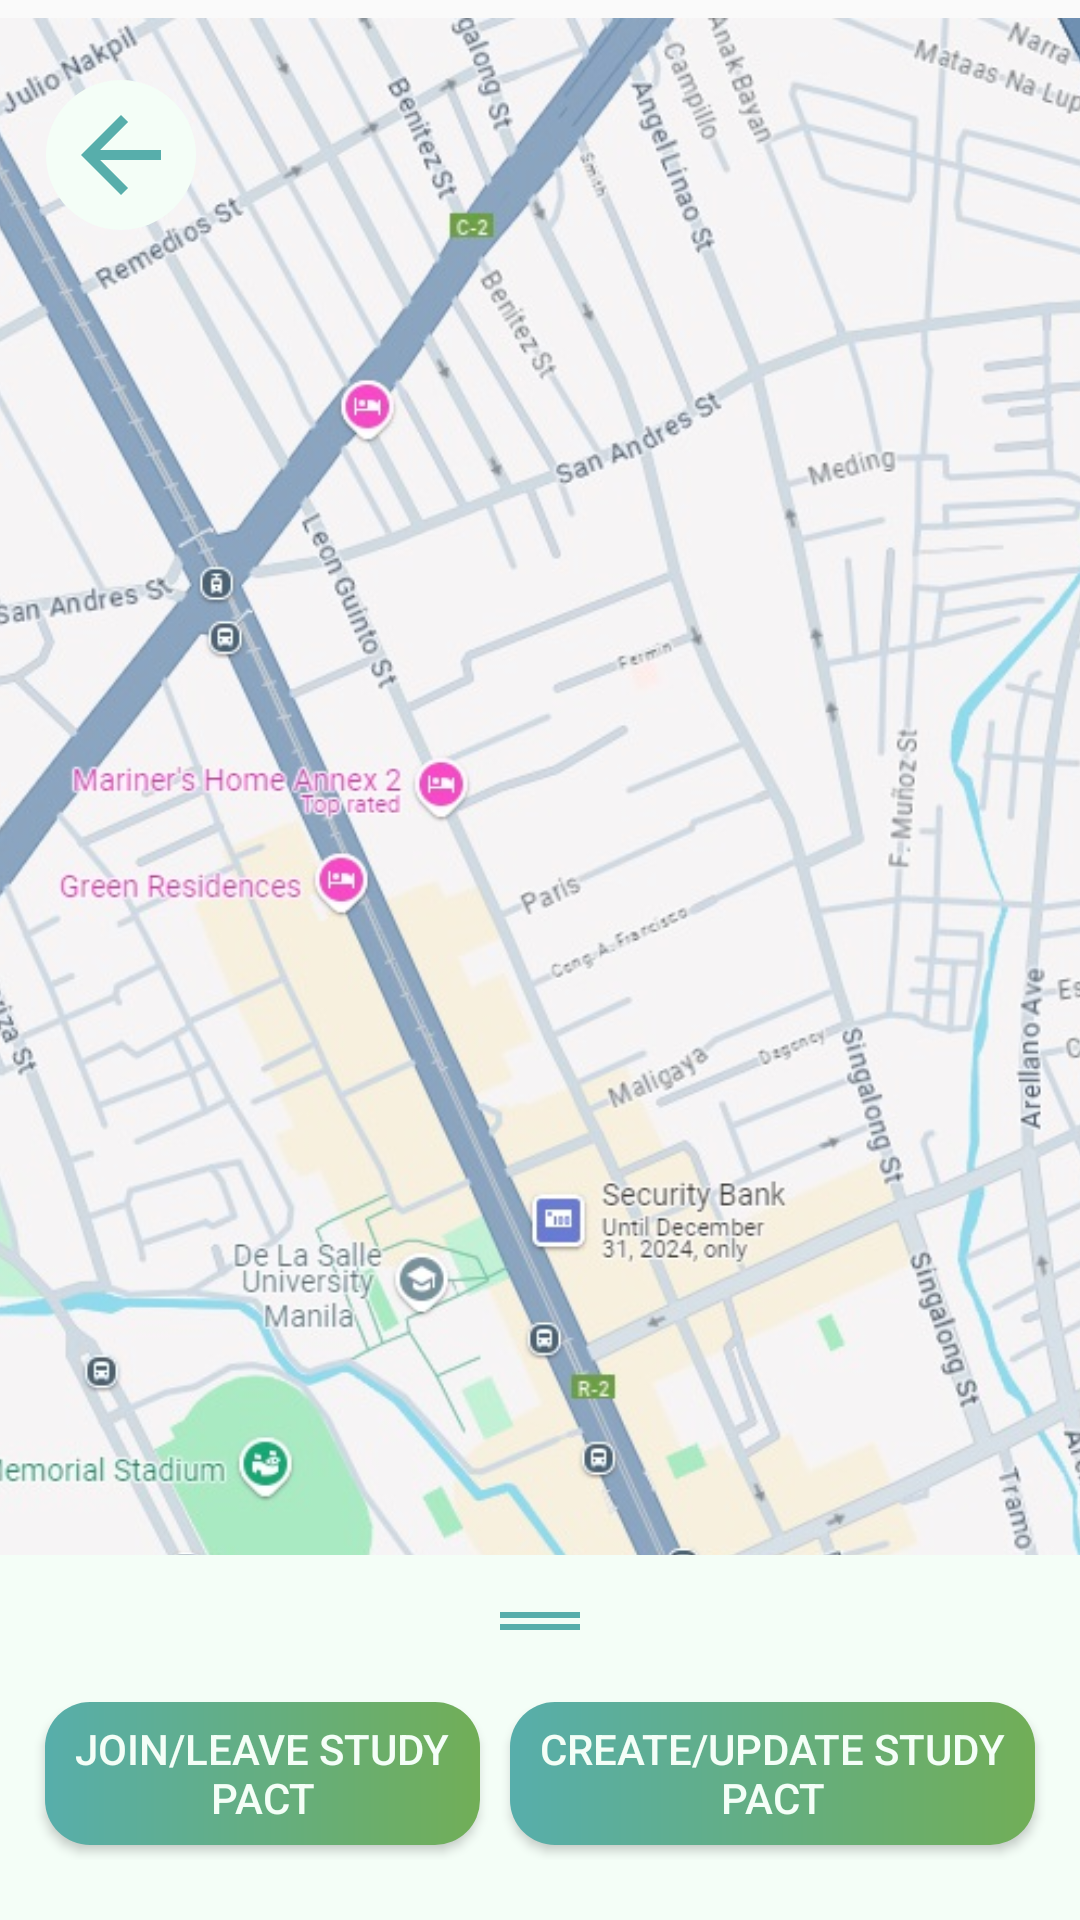

Icon bounding boxes for this 1080x1920 phone screenshot, format (x1, y1, x2, y2):
drag handle: (500, 1612, 580, 1630)
return arrow: (46, 80, 196, 230)
